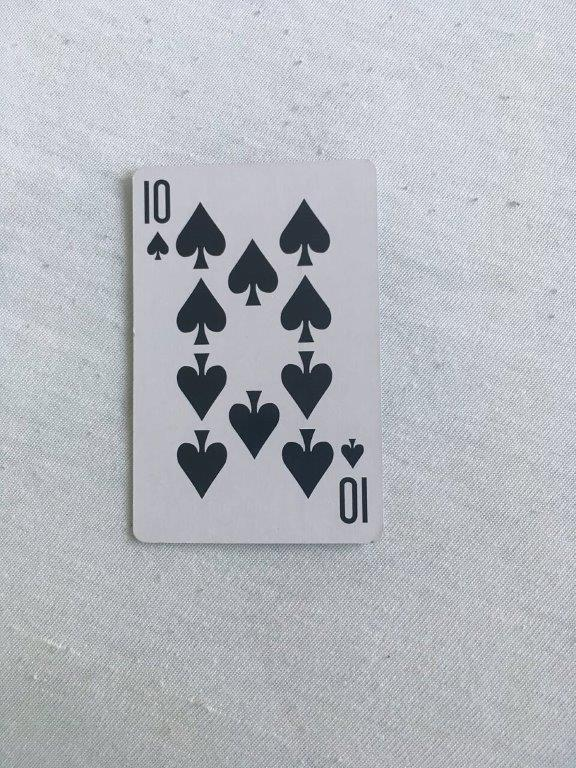10S: (128, 158, 386, 547)
